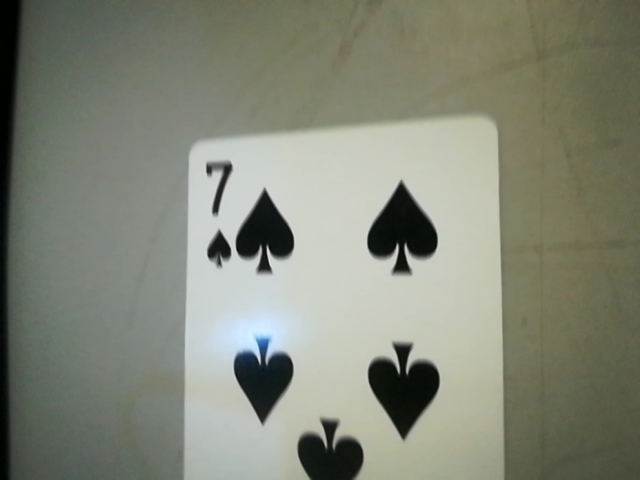ht 7: (185, 150, 240, 274)
